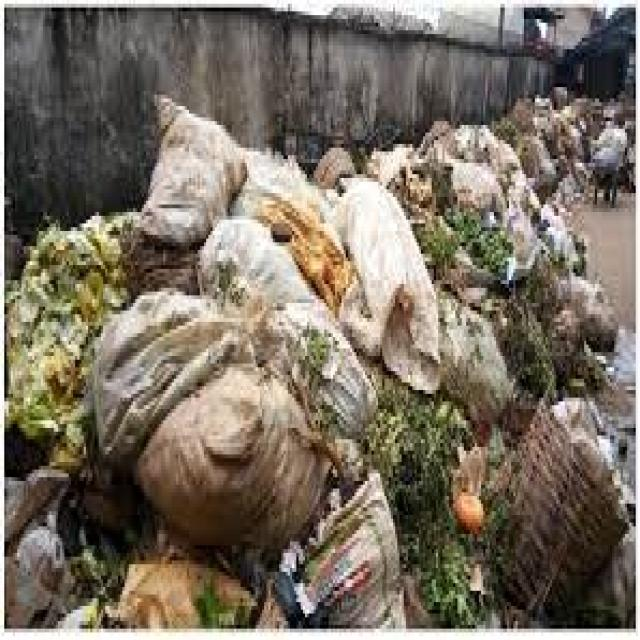Organik: (0, 79, 640, 640), (0, 149, 156, 486), (372, 108, 561, 306)
